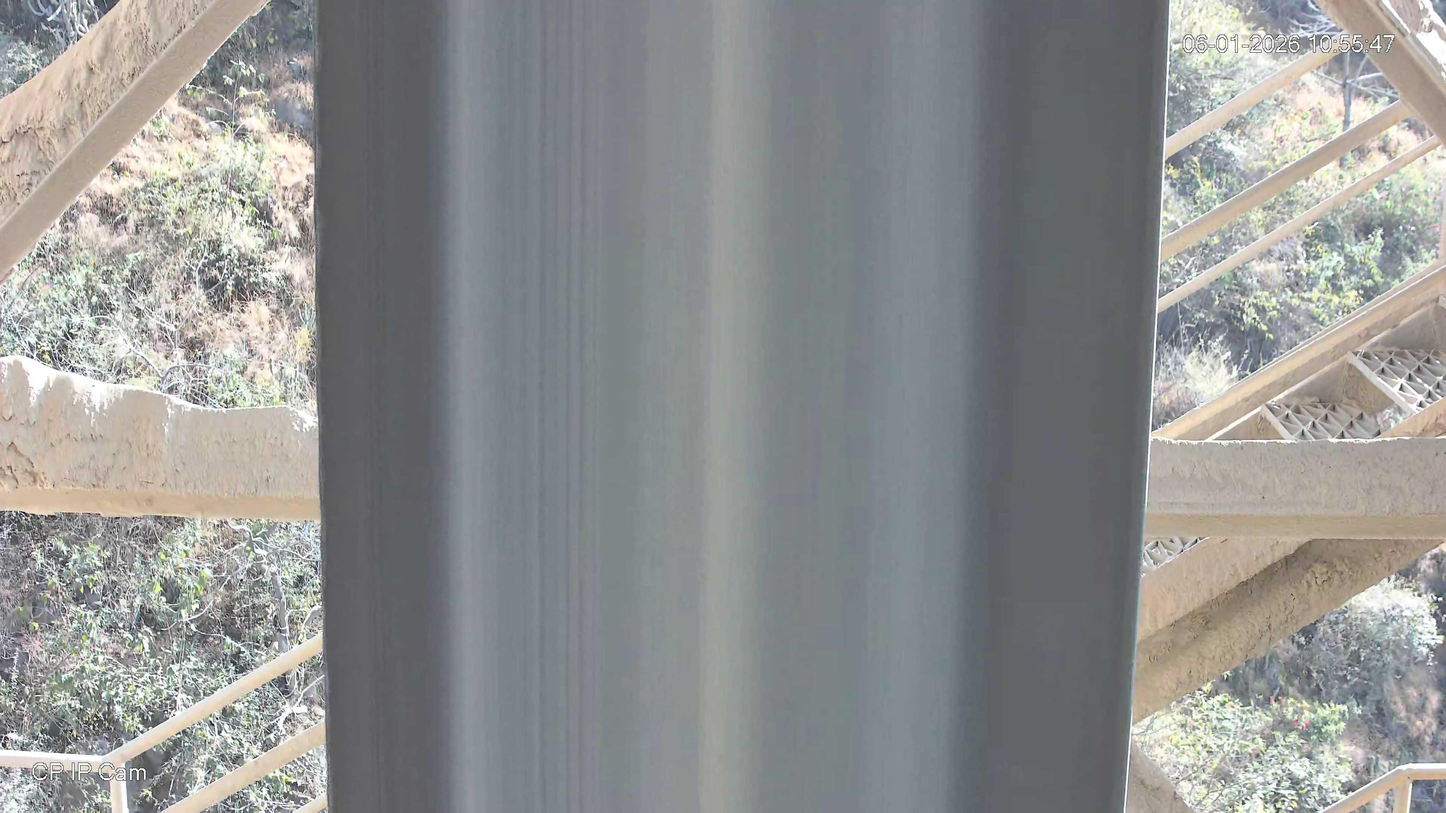belt_roi: (317, 0, 1171, 813)
